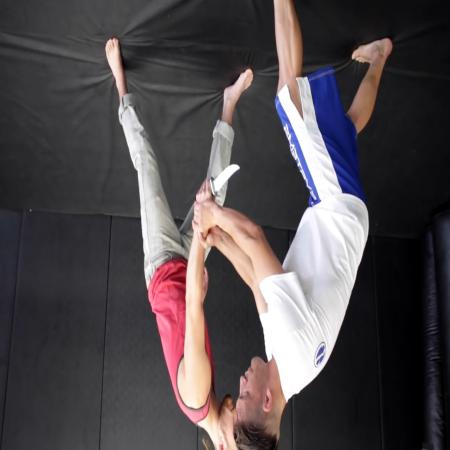long weapon: (193, 156, 242, 202)
